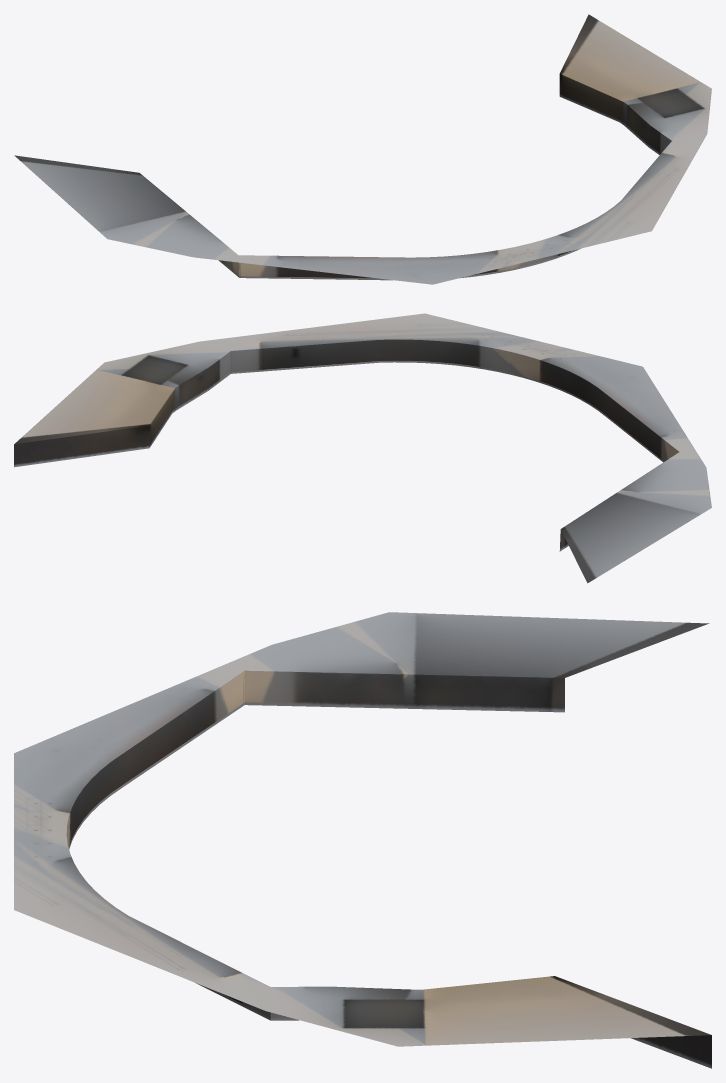
File: Front Base.fbx
3 views of the same model, one above another, from view 1: azimuth 30°, elevation 25°; view 2: azimuth 150°, elevation 25°; view 3: azimuth 270°, elevation 25° (orthographic). The views are drawn at different scales.
Visible parts, largest first — view 1: Front Base; view 2: Front Base; view 3: Front Base.
Part boxes in pixels (left/top/right/bottom): Front Base: left=14, top=14, right=711, bottom=284; Front Base: left=14, top=313, right=711, bottom=583; Front Base: left=14, top=612, right=711, bottom=1068.
Bounding box in the file's own units: 9411 × 340 × 6389.
Materials: 1 (1 with a texture image).
